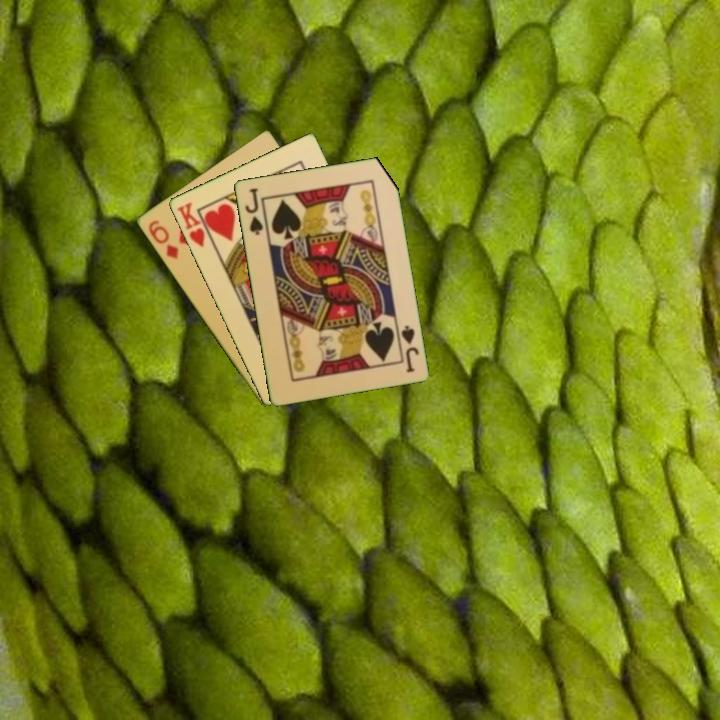6d: (144, 216, 181, 262)
Js: (394, 321, 421, 375), (241, 184, 266, 238)
Kh: (173, 198, 216, 250)
